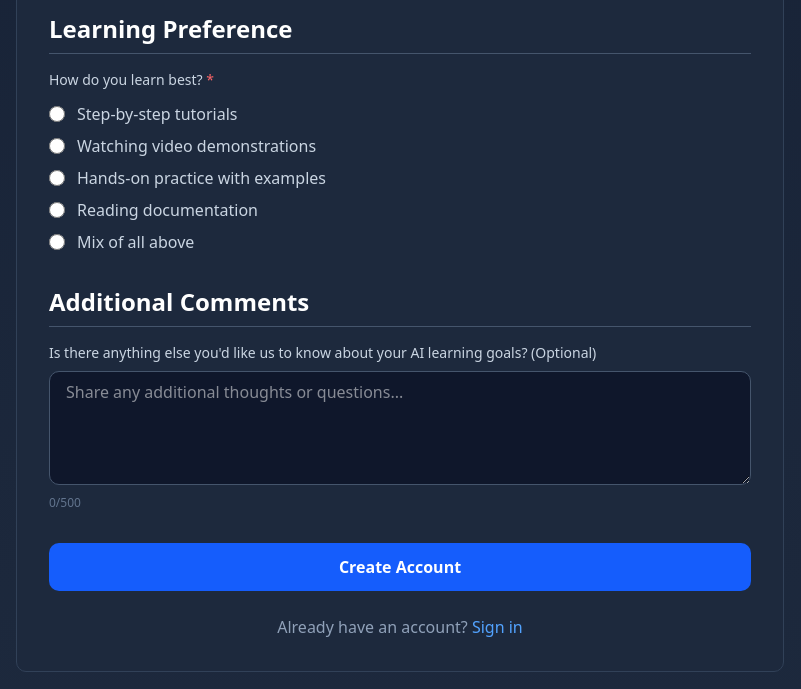
Test: Register Component - Extended Form › Additional Comments Section › renders textarea with character counter
This screenshot has width=801, height=689.
(page scrolled)
Expected: the text "0/500" is shown, 49,494 -> 81,511
Type "I am excited to learn AI!" into the text box with placeholder "Share any additional thoughts or questions...".
click(400, 428); type("I am excited to learn AI!")  # box 49,371 -> 751,485
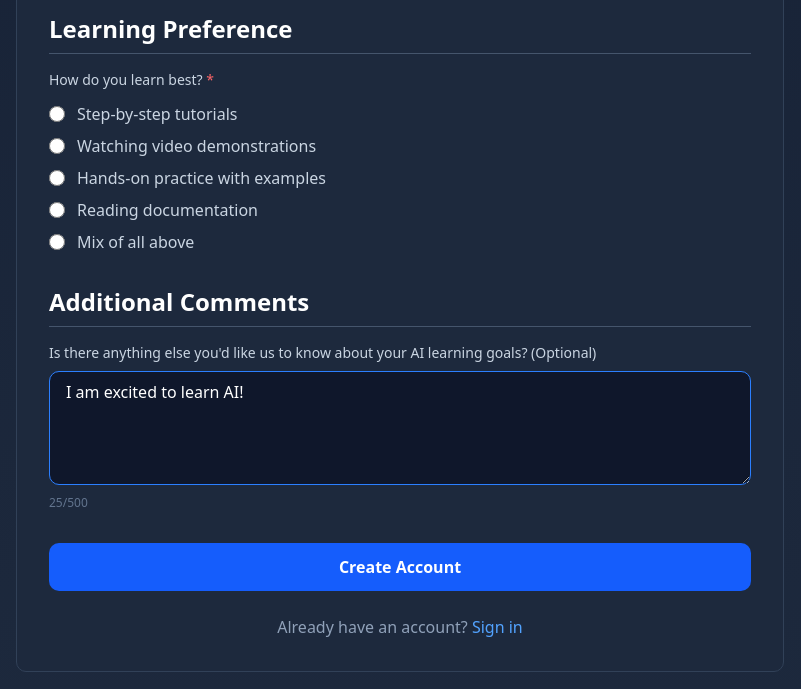
Expected: the text "25/500" is shown, 49,494 -> 88,511
